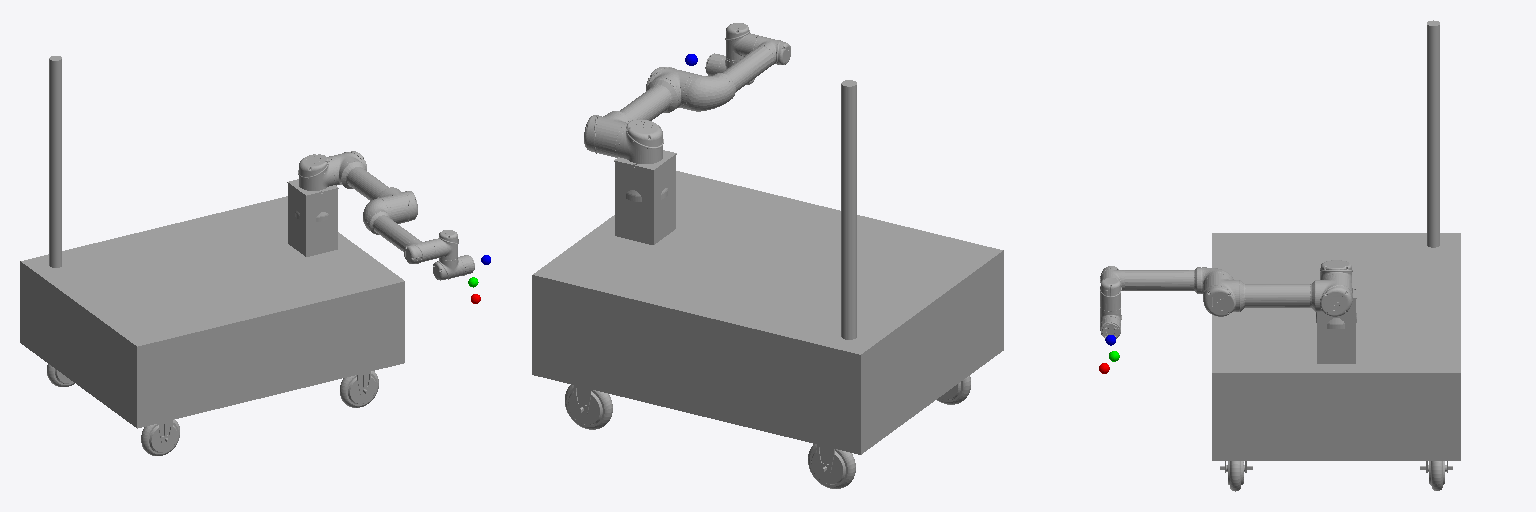
URDF robot description (ur5e):
<?xml version="1.0" encoding="utf-8"?>
<!-- =================================================================================== -->
<!-- |    This document was autogenerated by xacro from ./ur5e_robot.urdf.xacro        | -->
<!-- |    EDITING THIS FILE BY HAND IS NOT RECOMMENDED                                 | -->
<!-- =================================================================================== -->
<robot name="ur5e" xmlns:xacro="http://ros.org/wiki/xacro">
  <gazebo>
    <plugin filename="libgazebo_ros_control.so" name="ros_control">
      <!--robotNamespace>/</robotNamespace-->
      <!--robotSimType>gazebo_ros_control/DefaultRobotHWSim</robotSimType-->
    </plugin>
    <!--
    <plugin name="gazebo_ros_power_monitor_controller" filename="libgazebo_ros_power_monitor.so">
      <alwaysOn>true</alwaysOn>
      <updateRate>1.0</updateRate>
      <timeout>5</timeout>
      <powerStateTopic>power_state</powerStateTopic>
      <powerStateRate>10.0</powerStateRate>
      <fullChargeCapacity>87.78</fullChargeCapacity>     
      <dischargeRate>-474</dischargeRate>
      <chargeRate>525</chargeRate>
      <dischargeVoltage>15.52</dischargeVoltage>
      <chargeVoltage>16.41</chargeVoltage>
    </plugin>
-->
  </gazebo>
  <!--property name="shoulder_height" value="0.089159" /-->
  <!--property name="shoulder_offset" value="0.13585" /-->
  <!-- shoulder_offset - elbow_offset + wrist_1_length = 0.10915 -->
  <!--property name="upper_arm_length" value="0.42500" /-->
  <!--property name="elbow_offset" value="0.1197" /-->
  <!-- CAD measured -->
  <!--property name="forearm_length" value="0.39225" /-->
  <!--property name="wrist_1_length" value="0.093" /-->
  <!-- CAD measured -->
  <!--property name="wrist_2_length" value="0.09465" /-->
  <!-- In CAD this distance is 0.930, but in the spec it is 0.09465 -->
  <!--property name="wrist_3_length" value="0.0823" /-->
  <!-- manually measured -->

  <link name="car_link">
    <visual>
      <geometry>
        <mesh filename="package://bit_robotcar/meshes/car_link.dae"/>
      </geometry>
      <material name="LightGrey">
        <color rgba="0.7 0.7 0.7 1.0"/>
      </material>
    </visual>
    <collision>
      <geometry>
        <mesh filename="package://bit_robotcar/meshes/car_link.dae"/>
      </geometry>
    </collision>
    <inertial>
      <mass value="379.0"/>
      <origin rpy="0 0 0" xyz="0.0 0.0 0.0"/>
      <inertia ixx="29.73" ixy="0.0" ixz="0.0" iyy="49.44" iyz="0.0" izz="71.42"/>
    </inertial>
  </link>

  <joint name="car_base_joint" type="prismatic">
    <parent link="car_link"/>
    <child link="base_link"/>
    <origin rpy="0.0 0.0 1.57079" xyz="0.45 0 0.490"/>
    <axis xyz="0 0 1"/>
    <limit effort="150.0" lower="-6.28318530718" upper="6.28318530718" velocity="3.15"/>
    <dynamics damping="0.0" friction="0.0"/>
  </joint>

  <link name="base_link">
    <visual>
      <geometry>
        <mesh filename="package://bit_robotcar/meshes/ur5e/visual/base.dae"/>
      </geometry>
      <material name="LightGrey">
        <color rgba="0.7 0.7 0.7 1.0"/>
      </material>
    </visual>
    <collision>
      <geometry>
        <mesh filename="package://bit_robotcar/meshes/ur5e/collision/base.stl"/>
      </geometry>
    </collision>
    <inertial>
      <mass value="4.0"/>
      <origin rpy="0 0 0" xyz="0.0 0.0 0.0"/>
      <inertia ixx="0.00443333156" ixy="0.0" ixz="0.0" iyy="0.00443333156" iyz="0.0" izz="0.0072"/>
    </inertial>
  </link>

  <joint name="shoulder_pan_joint" type="revolute">
    <parent link="base_link"/>
    <child link="shoulder_link"/>
    <origin rpy="0.0 0.0 -3.141593" xyz="0.0 0.0 0.163"/>
    <axis xyz="0 0 1"/>
    <limit effort="150.0" lower="-6.28318530718" upper="6.28318530718" velocity="3.14"/>
    <dynamics damping="0.0" friction="0.0"/>
  </joint>
  <link name="shoulder_link">
    <visual>
      <geometry>
        <mesh filename="package://bit_robotcar/meshes/ur5e/visual/shoulder.dae"/>
      </geometry>
      <material name="LightGrey">
        <color rgba="0.7 0.7 0.7 1.0"/>
      </material>
    </visual>
    <collision>
      <geometry>
        <mesh filename="package://bit_robotcar/meshes/ur5e/collision/shoulder.stl"/>
      </geometry>
    </collision>
    <inertial>
      <mass value="3.7"/>
      <origin rpy="0 0 0" xyz="0.0 0.0 0.0"/>
      <inertia ixx="0.010267495893" ixy="0.0" ixz="0.0" iyy="0.010267495893" iyz="0.0" izz="0.00666"/>
    </inertial>
  </link>
  <joint name="shoulder_lift_joint" type="revolute">
    <parent link="shoulder_link"/>
    <child link="upper_arm_link"/>
    <origin rpy="0.0 1.57079632679 0.0" xyz="0.0 0.138 0.0"/>
    <axis xyz="0 1 0"/>
    <limit effort="150.0" lower="-6.28318530718" upper="6.28318530718" velocity="3.14"/>
    <dynamics damping="0.0" friction="0.0"/>
  </joint>
  <link name="upper_arm_link">
    <visual>
      <geometry>
        <mesh filename="package://bit_robotcar/meshes/ur5e/visual/upperarm.dae"/>
      </geometry>
      <material name="LightGrey">
        <color rgba="0.7 0.7 0.7 1.0"/>
      </material>
    </visual>
    <collision>
      <geometry>
        <mesh filename="package://bit_robotcar/meshes/ur5e/collision/upperarm.stl"/>
      </geometry>
    </collision>
    <inertial>
      <mass value="8.393"/>
      <origin rpy="0 0 0" xyz="0.0 0.0 0.2125"/>
      <inertia ixx="0.133885781862" ixy="0.0" ixz="0.0" iyy="0.133885781862" iyz="0.0" izz="0.0151074"/>
    </inertial>
  </link>
  <joint name="elbow_joint" type="revolute">
    <parent link="upper_arm_link"/>
    <child link="forearm_link"/>
    <origin rpy="0.0 0.0 0.0" xyz="0.0 -0.131 0.425"/>
    <axis xyz="0 1 0"/>
    <limit effort="150.0" lower="-3.14159265359" upper="3.14159265359" velocity="3.14"/>
    <dynamics damping="0.0" friction="0.0"/>
  </joint>
  <link name="forearm_link">
    <visual>
      <geometry>
        <mesh filename="package://bit_robotcar/meshes/ur5e/visual/forearm.dae"/>
      </geometry>
      <material name="LightGrey">
        <color rgba="0.7 0.7 0.7 1.0"/>
      </material>
    </visual>
    <collision>
      <geometry>
        <mesh filename="package://bit_robotcar/meshes/ur5e/collision/forearm.stl"/>
      </geometry>
    </collision>
    <inertial>
      <mass value="2.275"/>
      <origin rpy="0 0 0" xyz="0.0 0.0 0.196"/>
      <inertia ixx="0.0311796208615" ixy="0.0" ixz="0.0" iyy="0.0311796208615" iyz="0.0" izz="0.004095"/>
    </inertial>
  </link>
  <joint name="wrist_1_joint" type="revolute">
    <parent link="forearm_link"/>
    <child link="wrist_1_link"/>
    <origin rpy="0.0 1.57079632679 0.0" xyz="0.0 0.0 0.392"/>
    <axis xyz="0 1 0"/>
    <limit effort="28.0" lower="-6.28318530718" upper="6.28318530718" velocity="6.28"/>
    <dynamics damping="0.0" friction="0.0"/>
  </joint>
  <link name="wrist_1_link">
    <visual>
      <geometry>
        <mesh filename="package://bit_robotcar/meshes/ur5e/visual/wrist1.dae"/>
      </geometry>
      <material name="LightGrey">
        <color rgba="0.7 0.7 0.7 1.0"/>
      </material>
    </visual>
    <collision>
      <geometry>
        <mesh filename="package://bit_robotcar/meshes/ur5e/collision/wrist1.stl"/>
      </geometry>
    </collision>
    <inertial>
      <mass value="1.219"/>
      <origin rpy="0 0 0" xyz="0.0 0.127 0.0"/>
      <inertia ixx="0.00255989897604" ixy="0.0" ixz="0.0" iyy="0.00255989897604" iyz="0.0" izz="0.0021942"/>
    </inertial>
  </link>
  <joint name="wrist_2_joint" type="revolute">
    <parent link="wrist_1_link"/>
    <child link="wrist_2_link"/>
    <origin rpy="0.0 0.0 0.0" xyz="0.0 0.127 0.0"/>
    <axis xyz="0 0 1"/>
    <limit effort="28.0" lower="-6.28318530718" upper="6.28318530718" velocity="6.28"/>
    <dynamics damping="0.0" friction="0.0"/>
  </joint>
  <link name="wrist_2_link">
    <visual>
      <geometry>
        <mesh filename="package://bit_robotcar/meshes/ur5e/visual/wrist2.dae"/>
      </geometry>
      <material name="LightGrey">
        <color rgba="0.7 0.7 0.7 1.0"/>
      </material>
    </visual>
    <collision>
      <geometry>
        <mesh filename="package://bit_robotcar/meshes/ur5e/collision/wrist2.stl"/>
      </geometry>
    </collision>
    <inertial>
      <mass value="1.219"/>
      <origin rpy="0 0 0" xyz="0.0 0.0 0.1"/>
      <inertia ixx="0.00255989897604" ixy="0.0" ixz="0.0" iyy="0.00255989897604" iyz="0.0" izz="0.0021942"/>
    </inertial>
  </link>
  <joint name="wrist_3_joint" type="revolute">
    <parent link="wrist_2_link"/>
    <child link="wrist_3_link"/>
    <origin rpy="0.0 0.0 0.0" xyz="0.0 0.0 0.1"/>
    <axis xyz="0 1 0"/>
    <limit effort="28.0" lower="-6.28318530718" upper="6.28318530718" velocity="6.28"/>
    <dynamics damping="0.0" friction="0.0"/>
  </joint>
  <link name="wrist_3_link">
    <visual>
      <geometry>
        <mesh filename="package://bit_robotcar/meshes/ur5e/visual/wrist3.dae"/>
      </geometry>
      <material name="LightGrey">
        <color rgba="0.7 0.7 0.7 1.0"/>
      </material>
    </visual>
    <collision>
      <geometry>
        <mesh filename="package://bit_robotcar/meshes/ur5e/collision/wrist3.stl"/>
      </geometry>
    </collision>
    <inertial>
      <mass value="0.1879"/>
      <origin rpy="1.57079632679 0 0" xyz="0.0 0.0771 0.0"/>
      <inertia ixx="9.89041005217e-05" ixy="0.0" ixz="0.0" iyy="9.89041005217e-05" iyz="0.0" izz="0.0001321171875"/>
    </inertial>
  </link>
  <joint name="grasping_frame_joint" type="fixed">
    <parent link="wrist_3_link"/>
    <child link ="grasping_frame"/>
    <origin xyz="0 0.09237 0" rpy="0 0 0"/>
  </joint>
  <link name="grasping_frame">
  <!-- this link refers to end effector -->
    <visual>
      <geometry>
        <mesh filename="package://bit_robotcar/meshes/ur5e/visual/endEffector.dae"/>
        <!-- <mesh filename="package://bit_bit_robotcar/meshes/ur5/visual/endEffector.dae"/> -->
      </geometry>
      <material name="LightGrey">
        <color rgba="0.7 0.7 0.7 1.0"/>
      </material>
    </visual>
    <!-- <collision>
      <geometry>
        <mesh filename="package://bit_robotcar/meshes/ur5/collision/wrist3.stl"/>
      </geometry>
    </collision> -->
    <inertial>
      <mass value="0.1879"/>
      <origin rpy="0 0 0" xyz="0.0 162.25 0.0"/>
      <inertia ixx="0.0171364731454" ixy="0.0" ixz="0.0" iyy="0.0171364731454" iyz="0.0" izz="0.033822"/>
    </inertial>
  </link>
  <joint name="magnet_joint" type="fixed">
    <origin xyz="0.0 0.075 0.0" rpy="0.0 0.0 0.0"/>
    <parent link="grasping_frame"/>
    <child link="magnet_link"/>
  </joint>
  <link name="magnet_link">
  <!-- this link refers to the surface of magnet -->
    <inertial>
      <mass value="1.219"/>
      <origin rpy="0 0 0" xyz="0.0 0.0 0.0"/>
      <inertia ixx="0.111172755531" ixy="0.0" ixz="0.0" iyy="0.111172755531" iyz="0.0" izz="0.21942"/>
    </inertial>
    <visual name="">
      <origin xyz="0.0 0.0 0.0" rpy="0.0 0.0 0.0"/>
      <geometry>
          <sphere radius="0.02"/>
      </geometry>
      <material name="">
        <color rgba="0.0 0.0 1.0 1.0"/>
        <texture filename=""/>
      </material>
    </visual>
  </link>
  <joint name="tof_joint" type="fixed">
    <parent link="grasping_frame"/>
    <child link="tof_link"/>
    <origin xyz="0.01225 0.024 0.0887 " rpy="-1.5707963267948966 0.0 0.0"/>
  </joint>
  <link name="tof_link">
    <inertial>
      <mass value="0.1879"/>
      <origin rpy="0 0 0" xyz="0.0 0 0.0"/>
      <inertia ixx="0.0171364731454" ixy="0.0" ixz="0.0" iyy="0.0171364731454" iyz="0.0" izz="0.033822"/>
    </inertial>
    <visual name="">
      <origin xyz="0.0 0.0 0.0" rpy="0.0 0.0 0.0"/>
      <geometry>
          <sphere radius="0.02"/>
      </geometry>
      <material name="">
        <color rgba="0.0 1.0 0.0 1.0"/>
        <texture filename=""/>
      </material>
    </visual>
    <!-- <collision>
      <origin xyz="0.0 0.0 0.0" rpy="0.0 0.0 0.0"/>
      <geometry>
        <box size="0.0 0.0 0.0"/>
      </geometry>
    </collision> -->
  </link>
  <joint name="zed_joint" type="fixed">
    <origin xyz="-0.0235 0.0135 0.1424" rpy="-1.5707963267948966 0.0 0.0"/>
    <parent link="grasping_frame"/>
    <child link="zed_link"/>
  </joint>
  <link name="zed_link">
    <inertial>
      <origin xyz="0.0 0.0 0.0" rpy="0.0 0.0 0.0"/>
      <mass value="0.1879"/>
      <inertia ixx="0.0171364731454" ixy="0.0" ixz="0.0" iyy="0.0171364731454" iyz="0.0" izz="0.033822"/>
    </inertial>
    <visual name="">
      <origin xyz="0.0 0.0 0.0" rpy="0.0 0.0 0.0"/>
      <geometry>
          <sphere radius="0.02"/>
      </geometry>
      <material name="">
        <color rgba="1.0 0.0 0.0 1.0"/>
        <texture filename=""/>
      </material>
    </visual>
    <!-- <collision>
      <origin xyz="0.0 0.0 0.0" rpy="0.0 0.0 0.0"/>
      <geometry>
        <box size="0.0 0.0 0.0"/>
      </geometry>
    </collision> -->
  </link>

  <transmission name="shoulder_pan_trans">
    <type>transmission_interface/SimpleTransmission</type>
    <joint name="shoulder_pan_joint">
      <hardwareInterface>hardware_interface/PositionJointInterface</hardwareInterface>
    </joint>
    <actuator name="shoulder_pan_motor">
      <mechanicalReduction>1</mechanicalReduction>
    </actuator>
  </transmission>
  <transmission name="shoulder_lift_trans">
    <type>transmission_interface/SimpleTransmission</type>
    <joint name="shoulder_lift_joint">
      <hardwareInterface>hardware_interface/PositionJointInterface</hardwareInterface>
    </joint>
    <actuator name="shoulder_lift_motor">
      <mechanicalReduction>1</mechanicalReduction>
    </actuator>
  </transmission>
  <transmission name="elbow_trans">
    <type>transmission_interface/SimpleTransmission</type>
    <joint name="elbow_joint">
      <hardwareInterface>hardware_interface/PositionJointInterface</hardwareInterface>
    </joint>
    <actuator name="elbow_motor">
      <mechanicalReduction>1</mechanicalReduction>
    </actuator>
  </transmission>
  <transmission name="wrist_1_trans">
    <type>transmission_interface/SimpleTransmission</type>
    <joint name="wrist_1_joint">
      <hardwareInterface>hardware_interface/PositionJointInterface</hardwareInterface>
    </joint>
    <actuator name="wrist_1_motor">
      <mechanicalReduction>1</mechanicalReduction>
    </actuator>
  </transmission>
  <transmission name="wrist_2_trans">
    <type>transmission_interface/SimpleTransmission</type>
    <joint name="wrist_2_joint">
      <hardwareInterface>hardware_interface/PositionJointInterface</hardwareInterface>
    </joint>
    <actuator name="wrist_2_motor">
      <mechanicalReduction>1</mechanicalReduction>
    </actuator>
  </transmission>
  <transmission name="wrist_3_trans">
    <type>transmission_interface/SimpleTransmission</type>
    <joint name="wrist_3_joint">
      <hardwareInterface>hardware_interface/PositionJointInterface</hardwareInterface>
    </joint>
    <actuator name="wrist_3_motor">
      <mechanicalReduction>1</mechanicalReduction>
    </actuator>
  </transmission>
  <gazebo reference="shoulder_link">
    <selfCollide>true</selfCollide>
  </gazebo>
  <gazebo reference="upper_arm_link">
    <selfCollide>true</selfCollide>
  </gazebo>
  <gazebo reference="forearm_link">
    <selfCollide>true</selfCollide>
  </gazebo>
  <gazebo reference="wrist_1_link">
    <selfCollide>true</selfCollide>
  </gazebo>
  <gazebo reference="wrist_3_link">
    <selfCollide>true</selfCollide>
  </gazebo>
  <gazebo reference="wrist_2_link">
    <selfCollide>true</selfCollide>
  </gazebo>
  <gazebo reference="ee_link">
    <selfCollide>true</selfCollide>
  </gazebo>
</robot>

--- Facts derived from the render (not from the file) ---
Views: 3 orthographic renders of the robot side by side, from view 1: azimuth 30°, elevation 25°; view 2: azimuth 150°, elevation 25°; view 3: azimuth 270°, elevation 25°.
Robot: ur5e — 12 links, 11 joints (6 revolute, 1 prismatic, 4 fixed); root link car_link; default pose: all joints at 0.
Links seen in each view (by area): view 1: car_link, upper_arm_link, forearm_link, shoulder_link, wrist_1_link, wrist_2_link; view 2: car_link, upper_arm_link, forearm_link, shoulder_link, wrist_1_link; view 3: car_link, upper_arm_link, forearm_link, wrist_1_link.
Link boxes in pixels (bbox=[...]): car_link: bbox=[20, 56, 404, 455]; upper_arm_link: bbox=[329, 151, 417, 223]; forearm_link: bbox=[363, 198, 436, 263]; shoulder_link: bbox=[298, 154, 337, 190]; wrist_1_link: bbox=[432, 230, 458, 261]; wrist_2_link: bbox=[433, 257, 465, 280]; car_link: bbox=[532, 80, 1003, 488]; upper_arm_link: bbox=[584, 67, 697, 157]; forearm_link: bbox=[686, 36, 790, 111]; shoulder_link: bbox=[615, 119, 663, 163]; wrist_1_link: bbox=[725, 23, 758, 62]; car_link: bbox=[1212, 20, 1460, 491]; upper_arm_link: bbox=[1203, 272, 1352, 316]; forearm_link: bbox=[1100, 266, 1233, 293]; wrist_1_link: bbox=[1100, 278, 1121, 312].
Bounding box of the posed robot: 1.37 × 1.31 × 1.42 m (x, y, z).
8 mesh visuals loaded from 9 distinct referenced files (8 Collada DAE); not drawn: 1 (reference not matched to a file when rendering).